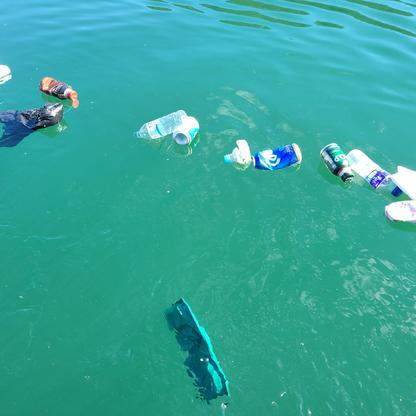can: (251, 144, 302, 169), (171, 112, 198, 144), (381, 200, 416, 223)
foam: (392, 165, 416, 201)
plastic bag: (1, 102, 64, 144)
plastic bottle: (347, 147, 403, 196), (133, 108, 190, 141), (321, 144, 353, 182), (222, 138, 250, 169), (38, 76, 74, 98)
